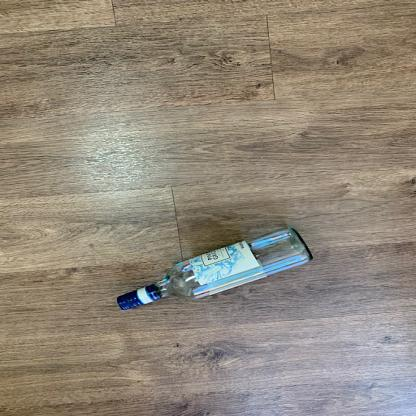trash: (113, 224, 324, 315)
